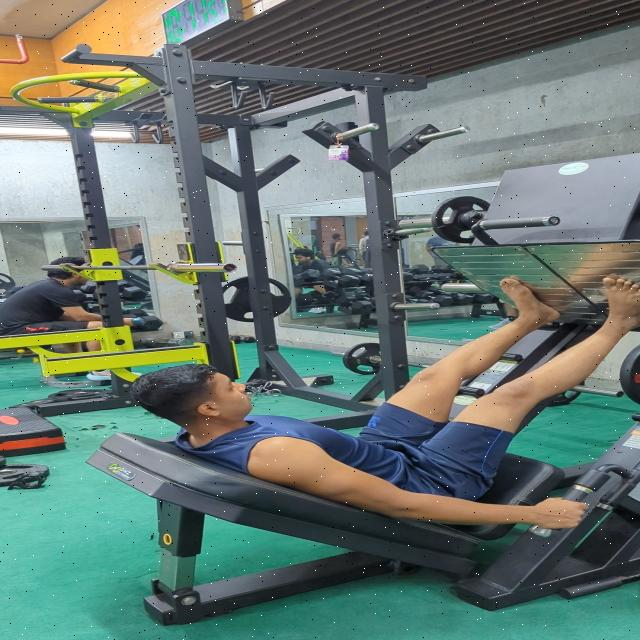Normal_LegPress: (103, 271, 640, 538)
